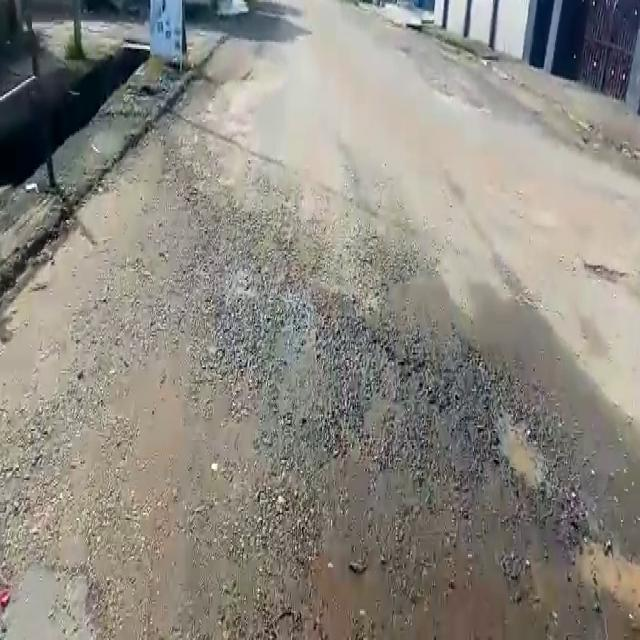pothole: (494, 402, 548, 494)
